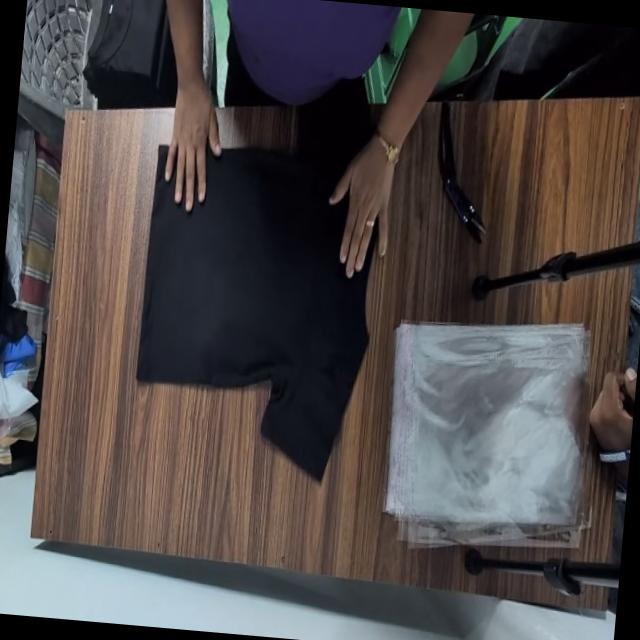new-garment: (136, 148, 368, 479)
